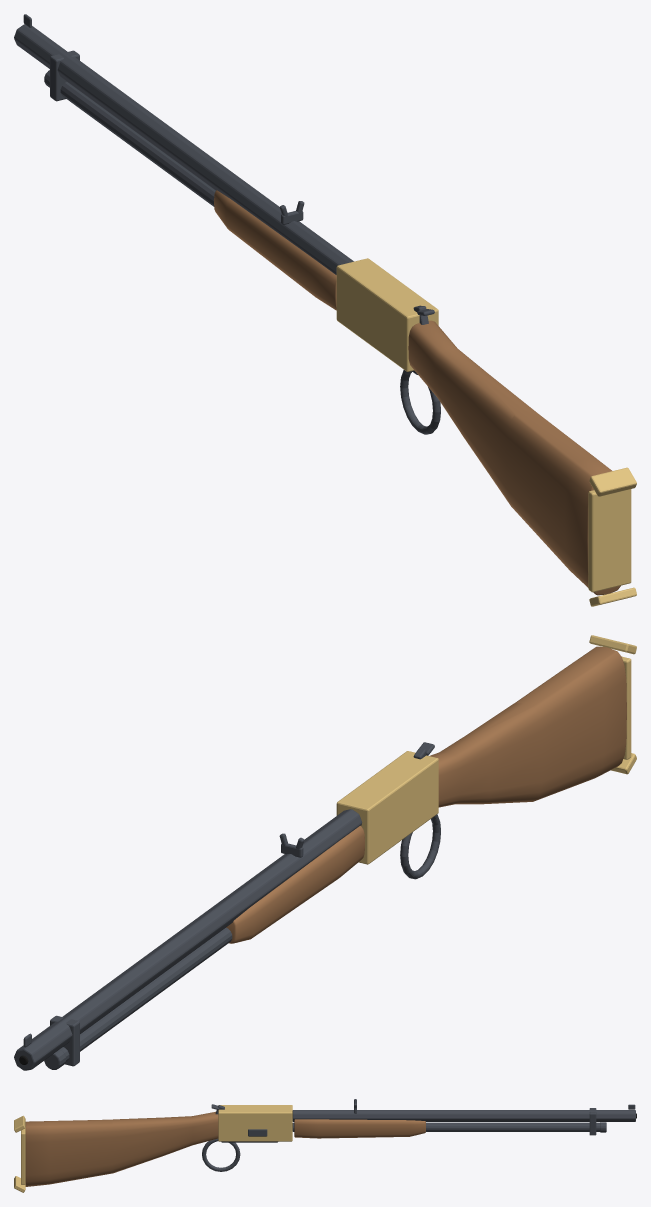
Rendered from rifle.glb.
The picture shows the model from 3 angles, top to bottom: view 1: azimuth 30°, elevation 25°; view 2: azimuth 150°, elevation 25°; view 3: azimuth 270°, elevation 25°; orthographic projection. The views are drawn at different scales.
Parts seen in each view (by area): view 1: Rifle, RifleLever; view 2: Rifle, RifleLever; view 3: Rifle, RifleLever.
Part boxes in pixels (box(x1,y1,x2,y2)): Rifle: box(14, 14, 636, 606); RifleLever: box(400, 370, 440, 434); Rifle: box(14, 635, 636, 1070); RifleLever: box(400, 814, 440, 879); Rifle: box(14, 1099, 636, 1192); RifleLever: box(202, 1138, 277, 1171).
Size of the model in its own units: 0.042 by 0.1677 by 1.09.
